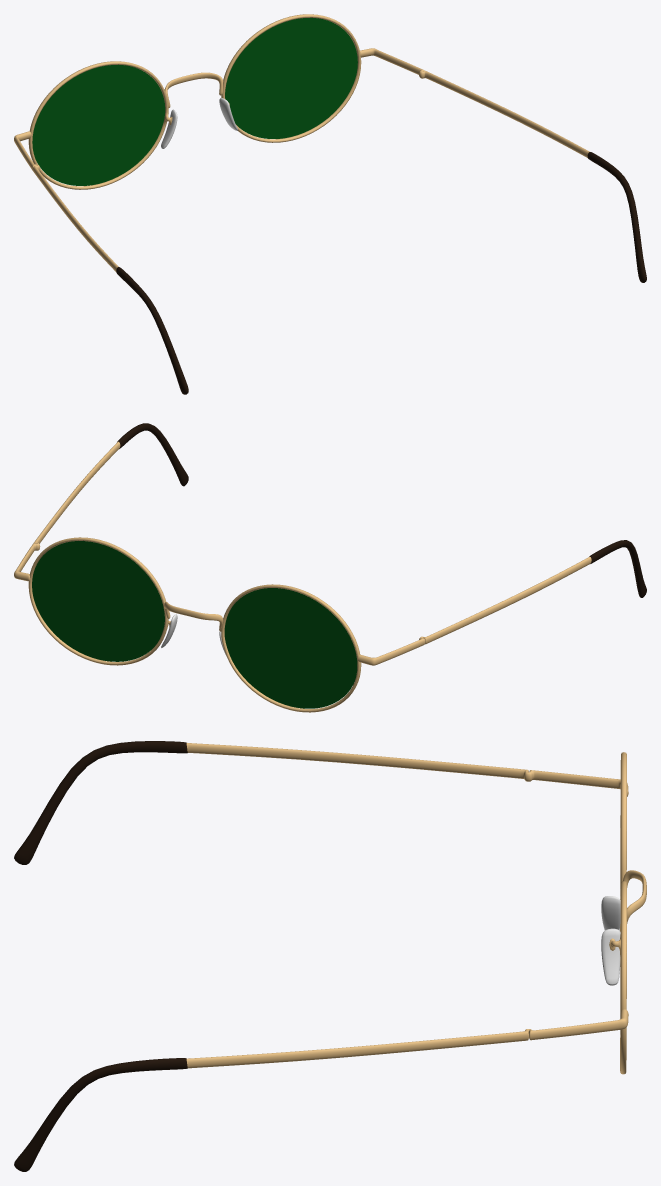
Rendered from smallGreenSunglasses.fbx.
The picture shows the model from 3 angles, top to bottom: view 1: azimuth 30°, elevation 25°; view 2: azimuth 150°, elevation 25°; view 3: azimuth 270°, elevation 25°; orthographic projection. The views are drawn at different scales.
Parts seen in each view (by area): view 1: Cylinder.006; view 2: Cylinder.006; view 3: Cylinder.006.
Part boxes in pixels (x1=…): Cylinder.006: x1=14, y1=14, x2=646, y2=394; Cylinder.006: x1=14, y1=423, x2=646, y2=712; Cylinder.006: x1=14, y1=741, x2=646, y2=1171.
Size of the model in its own units: 16.65 by 4.55 by 13.75.
